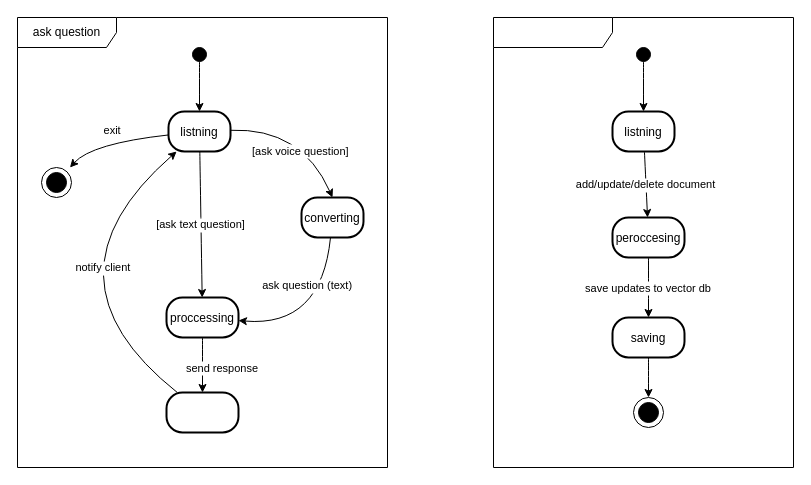
Some shapes in this 811 by 485 pixel diagram are drawn without their labels. Each missing label, with the centre of its shape:
Manage document: the point at 643,242
responding: the point at 202,412
